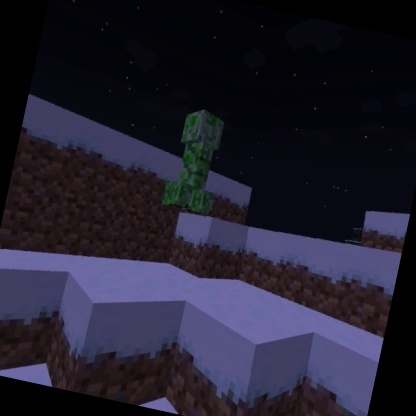creeper: (158, 103, 235, 220)
